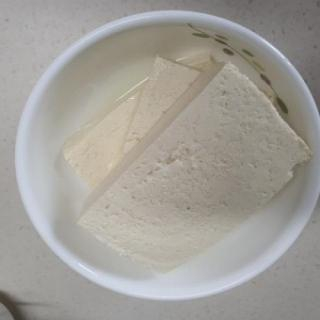Tahu: (63, 51, 312, 273)
